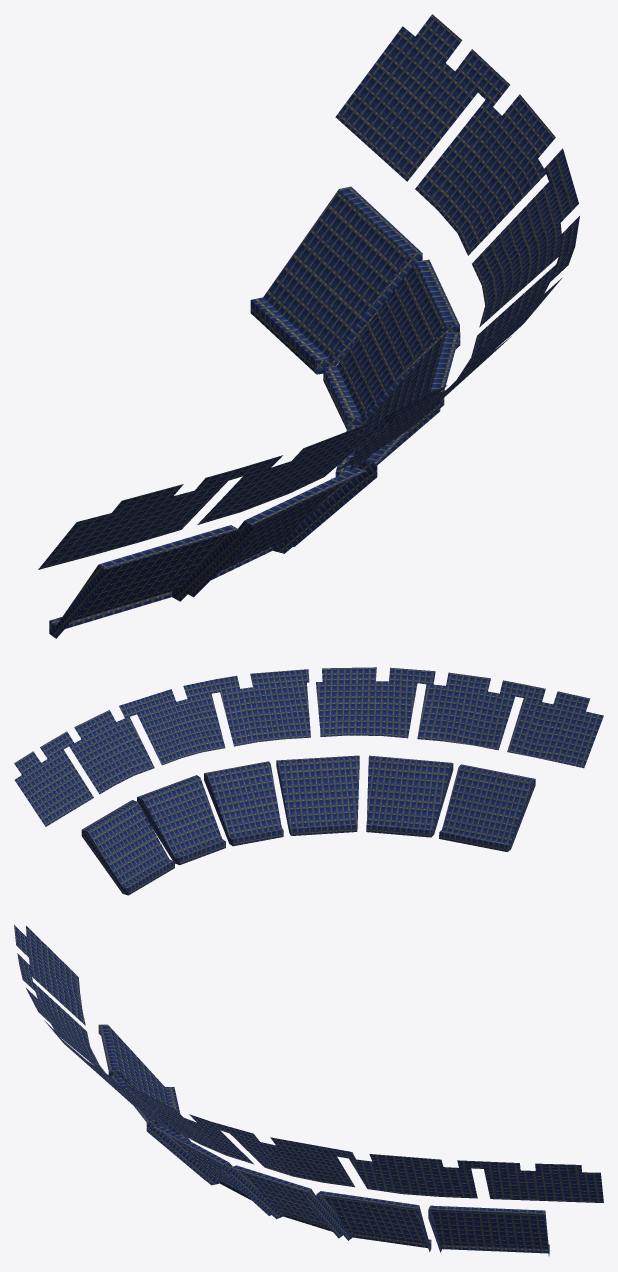
File: gradas_LOD1.FBX
3 renders of one model, top to bottom at view 1: azimuth 30°, elevation 25°; view 2: azimuth 150°, elevation 25°; view 3: azimuth 270°, elevation 25°, orthographic. The views are drawn at different scales.
Visible parts, largest first — view 1: bleachers_low; view 2: bleachers_low; view 3: bleachers_low.
Boxes of the visible parts, box(x1,y1,x2,y2) form: bleachers_low: box(38, 14, 579, 638); bleachers_low: box(14, 667, 603, 895); bleachers_low: box(14, 925, 603, 1255).
Bounding box in the file's own units: 7056 × 2034 × 6967.
